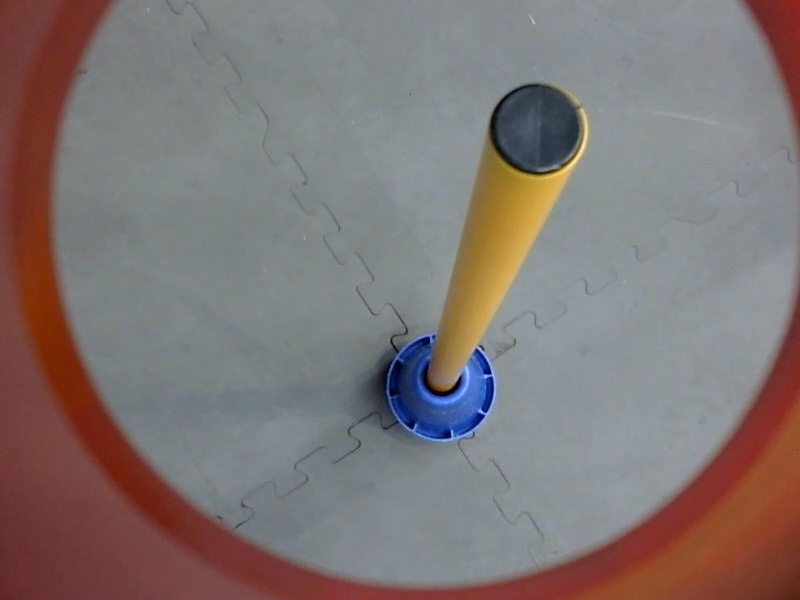tip: (483, 75, 591, 183)
